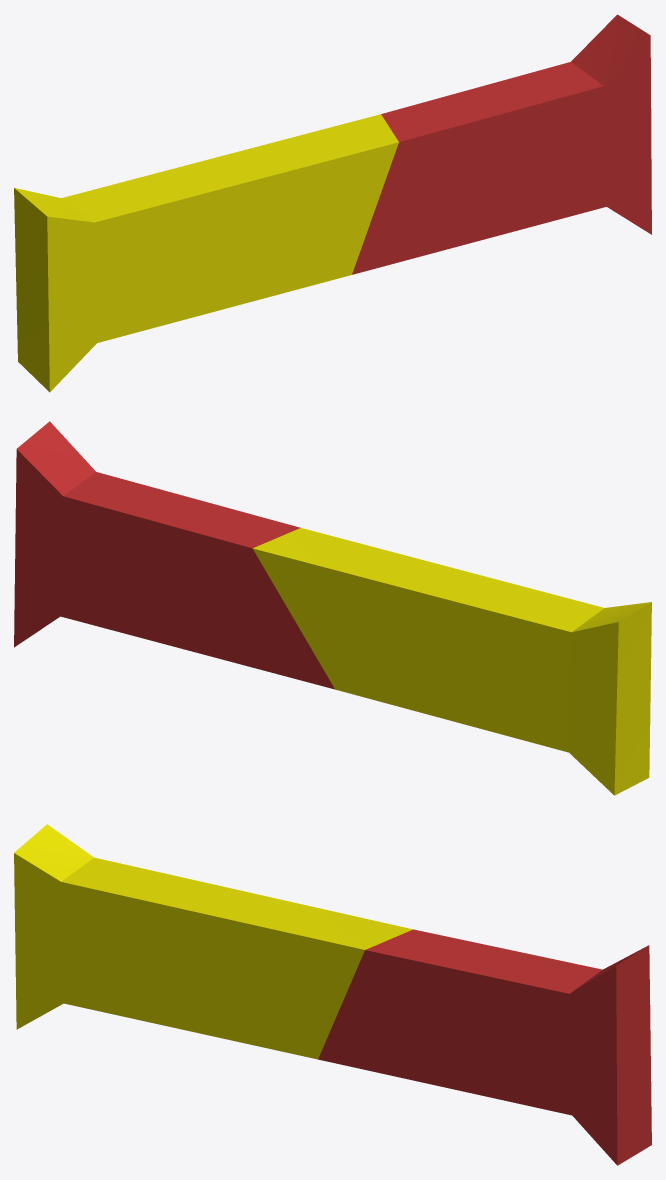
File: Item.fbx
3 views of the same model, one above another, from view 1: azimuth 30°, elevation 25°; view 2: azimuth 150°, elevation 25°; view 3: azimuth 330°, elevation 25° (orthographic).
Parts seen in each view (by area): view 1: pCube1; view 2: pCube1; view 3: pCube1.
Boxes of the visible parts, x1,y1,x2,y2 form: pCube1: (14,14,651,392); pCube1: (14,421,651,795); pCube1: (14,824,651,1165).
Bounding box in the file's own units: 0.0523 × 0.0174 × 0.005.
